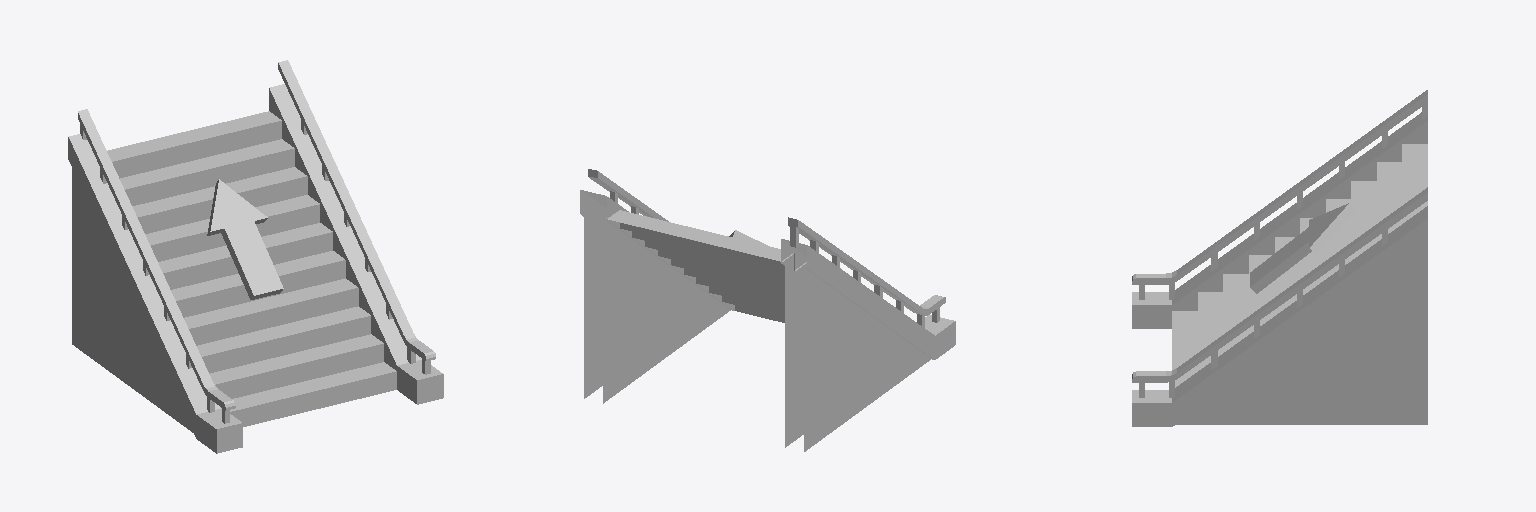
The model's file is upStair.obj.
The picture shows the model from 3 angles: view 1: azimuth 30°, elevation 25°; view 2: azimuth 150°, elevation 25°; view 3: azimuth 270°, elevation 25°; orthographic projection.
Parts seen in each view (by area): view 1: SM_StairCase_02, Arrow; view 2: SM_StairCase_02; view 3: SM_StairCase_02, Arrow.
Part boxes in pixels (x1,y1,x2,y2): SM_StairCase_02: (68, 60, 443, 453); Arrow: (207, 179, 283, 299); SM_StairCase_02: (580, 169, 955, 451); SM_StairCase_02: (1132, 90, 1427, 426); Arrow: (1250, 203, 1355, 293).
Bounding box in the file's own units: 0.2565 × 0.2503 × 0.2898.